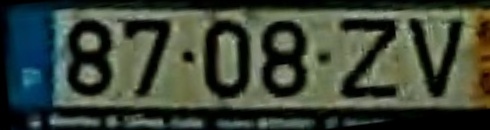0: (200, 17, 254, 103)
7: (119, 16, 176, 102)
8: (62, 16, 116, 101), (258, 16, 311, 101)
V: (403, 16, 470, 101)
Z: (337, 17, 402, 103)
